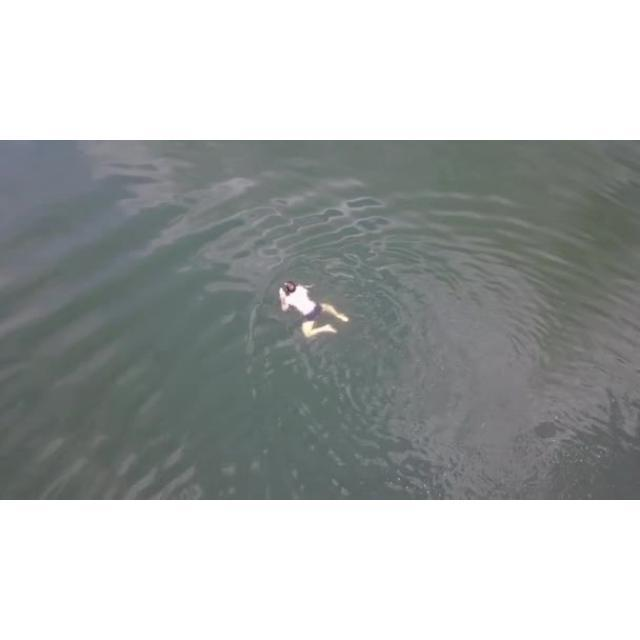human: (277, 281, 349, 339)
